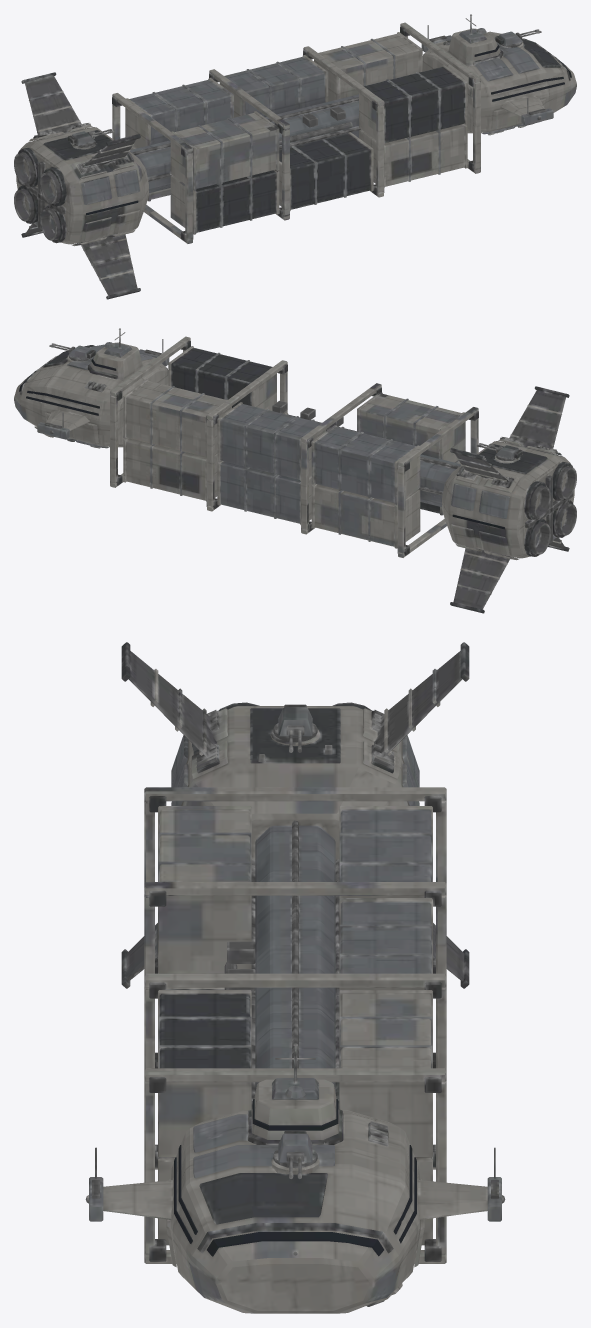
Rendered from visitor.glb.
The picture shows the model from 3 angles, top to bottom: view 1: azimuth 30°, elevation 25°; view 2: azimuth 150°, elevation 25°; view 3: azimuth 270°, elevation 25°; orthographic projection. The views are drawn at different scales.
Visible parts, largest first — view 1: visitor_hull, turret_0, turret_1; view 2: visitor_hull, turret_0, turret_1; view 3: visitor_hull, turret_1, turret_0.
Part boxes in pixels (x1,y1,x2,y2): visitor_hull: (14, 14, 576, 299); turret_0: (495, 29, 541, 47); turret_1: (68, 129, 114, 147); visitor_hull: (14, 328, 576, 613); turret_0: (49, 343, 95, 361); turret_1: (476, 443, 522, 461); visitor_hull: (85, 642, 505, 1313); turret_1: (273, 704, 317, 752); turret_0: (273, 1131, 317, 1178).
Size of the model in its own units: 30 by 8.63 by 10.42.
1 material, 1 textured.
